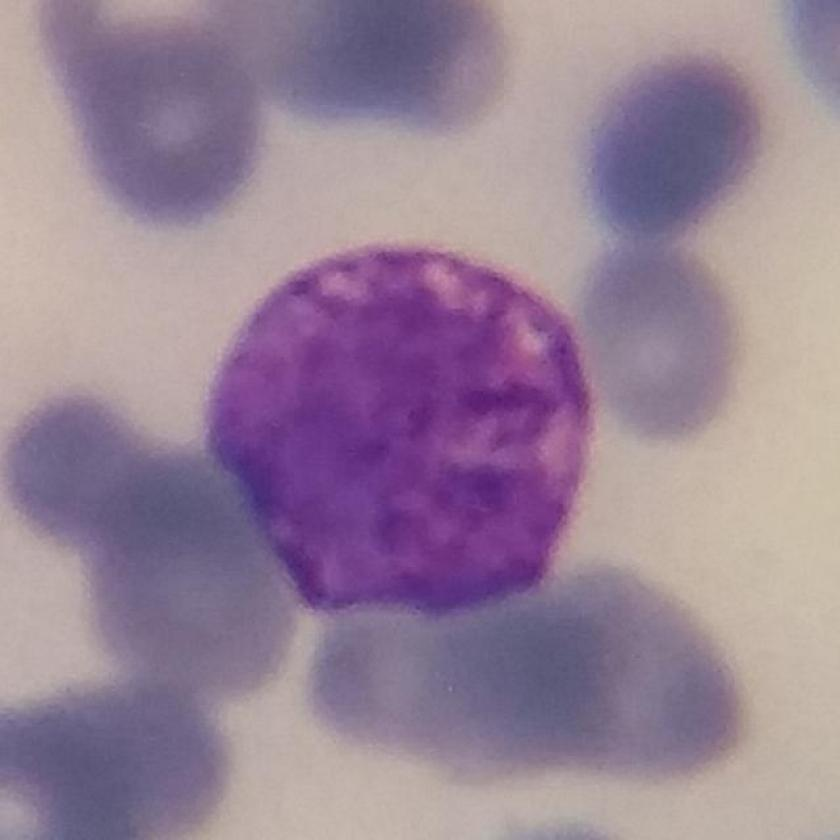basophil: (199, 231, 611, 631)
